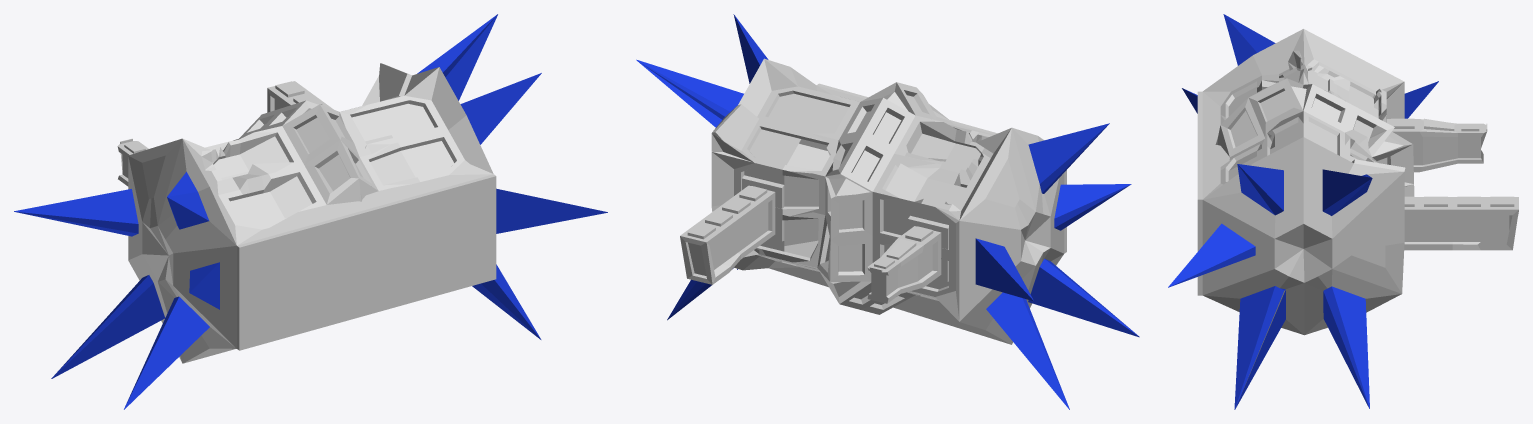
The model's file is BOSSbroken.fbx.
3 views of the same model, side by side, from view 1: azimuth 30°, elevation 25°; view 2: azimuth 150°, elevation 25°; view 3: azimuth 270°, elevation 25° (orthographic). The views are drawn at different scales.
Parts seen in each view (by area): view 1: Cylinder; view 2: Cylinder; view 3: Cylinder.
Boxes of the visible parts, bbox=[...] form: Cylinder: bbox=[14, 14, 607, 409]; Cylinder: bbox=[636, 14, 1139, 409]; Cylinder: bbox=[1168, 14, 1518, 409].
Bounding box in the file's own units: 3.66 × 5.02 × 2.85.
